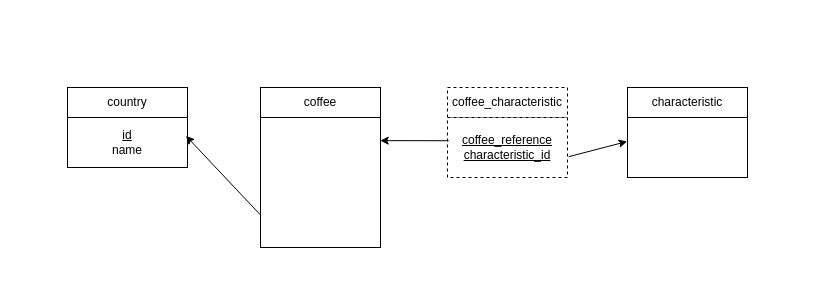
This 815x295 diagram has some shape labels left out. The shapes that lost their labels are listed below. From the top down, each one's centre as x and y in pixels, then its label:
At (687,147): "id detail".
At (320,182): "reference name descirption price available country_id".
